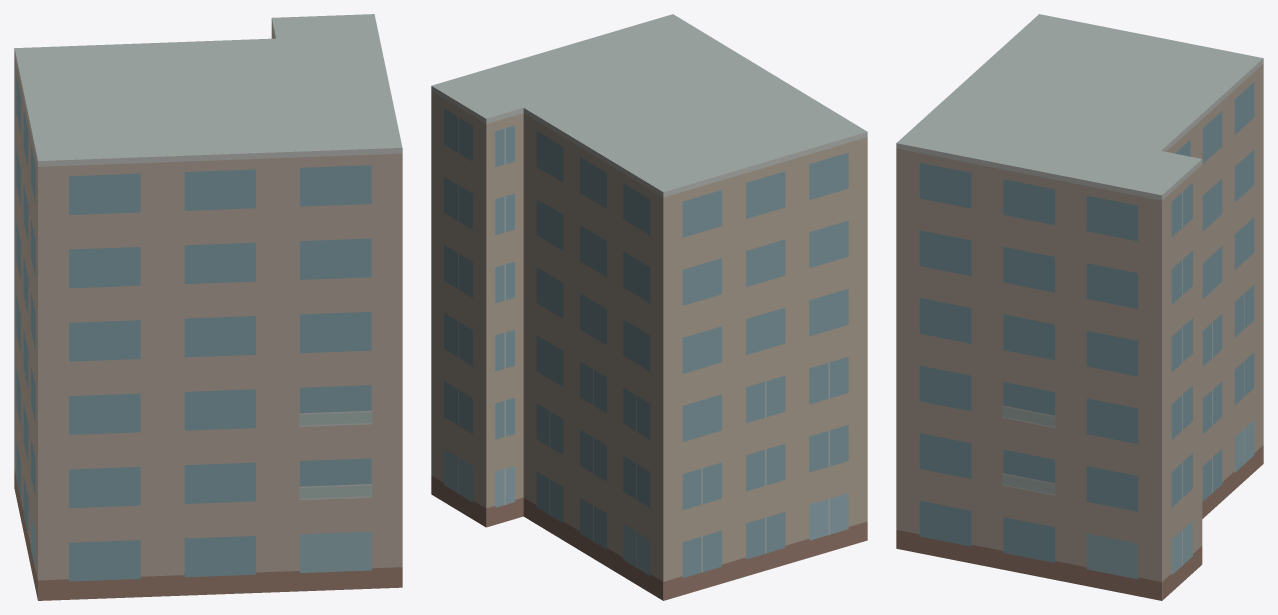
Rendered from survey-upis-32631582.glb.
3 renders of one model, left to right at view 1: azimuth 30°, elevation 25°; view 2: azimuth 150°, elevation 25°; view 3: azimuth 270°, elevation 25°, orthographic. The views are drawn at different scales.
Parts seen in each view (by area): view 1: survey-upis-32631582.tmp; view 2: survey-upis-32631582.tmp; view 3: survey-upis-32631582.tmp.
Part boxes in pixels (x1=…): survey-upis-32631582.tmp: x1=14, y1=14, x2=402, y2=600; survey-upis-32631582.tmp: x1=431, y1=14, x2=867, y2=600; survey-upis-32631582.tmp: x1=896, y1=14, x2=1263, y2=600.
Bounding box in the file's own units: 17.85 × 18.6 × 15.28.
